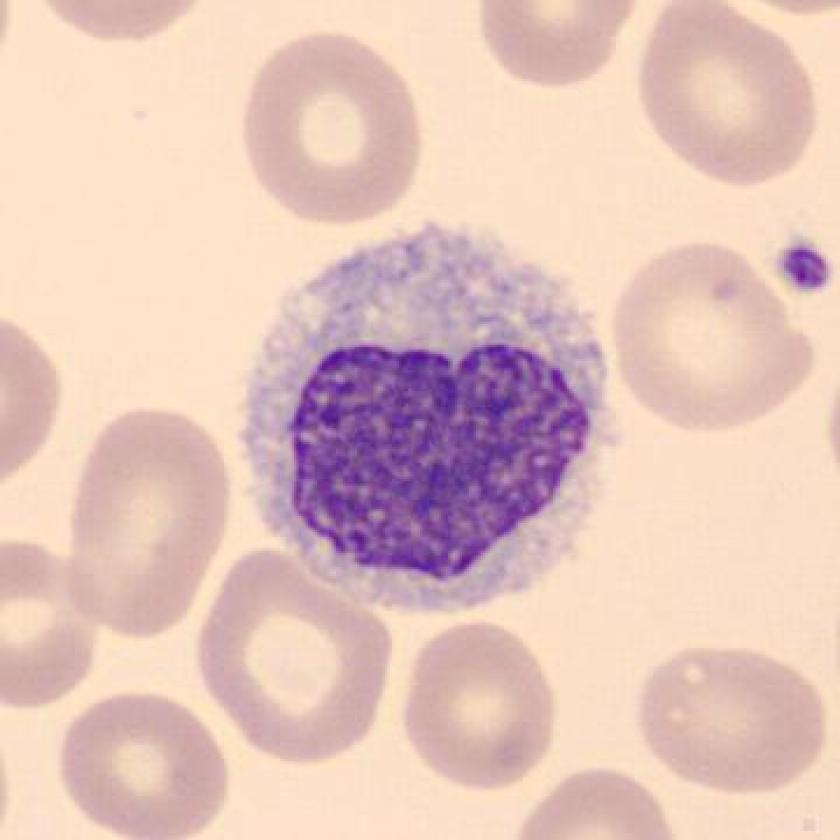monocyte: (223, 193, 645, 630)
